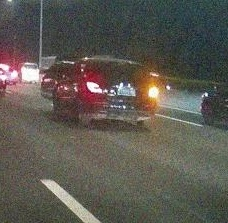L_light: (86, 81, 103, 94)
R_light: (144, 86, 158, 97)
T_light: (116, 63, 128, 67)
night-right: (84, 58, 158, 128)
